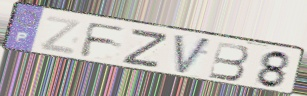8: (255, 49, 292, 90)
B: (207, 40, 251, 82)
F: (78, 21, 128, 59)
V: (173, 33, 214, 77)
Z: (119, 29, 171, 70), (38, 14, 84, 57)
